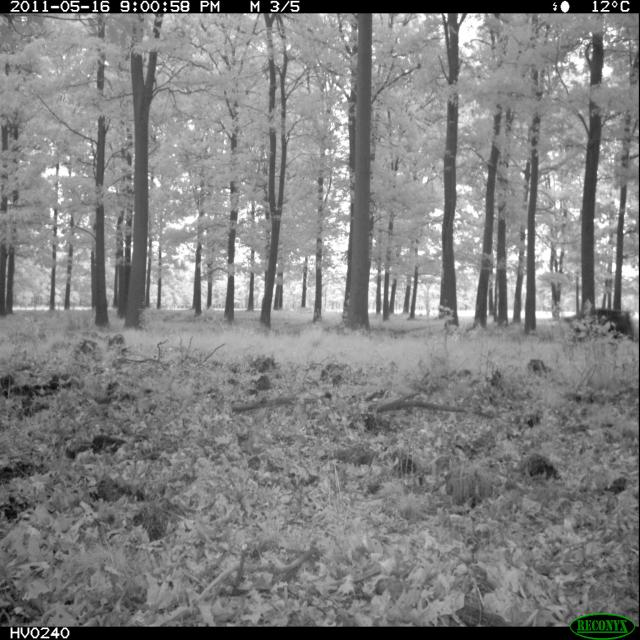boar: (566, 256, 640, 392)
